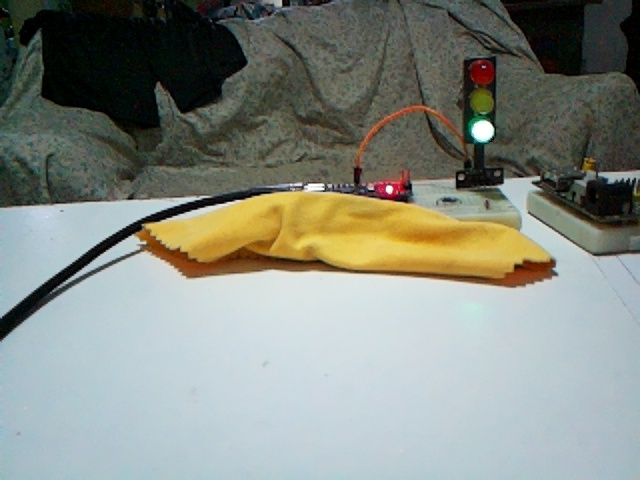traffic_light_green: (460, 57, 503, 187)
